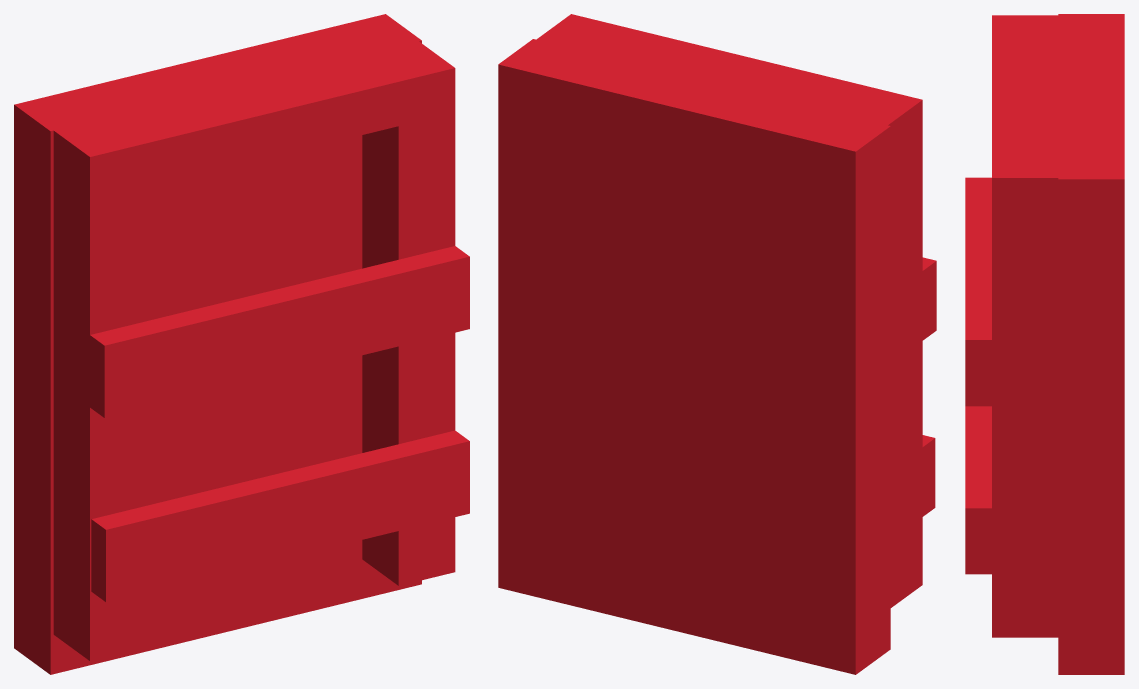
The model's file is tinker.obj.
3 views of the same model, side by side, from view 1: azimuth 30°, elevation 25°; view 2: azimuth 150°, elevation 25°; view 3: azimuth 270°, elevation 25° (orthographic). The views are drawn at different scales.
Parts seen in each view (by area): view 1: obj_0; view 2: obj_0; view 3: obj_0.
Part boxes in pixels (x1,y1,x2,y2): obj_0: (14,14,469,674); obj_0: (498,14,936,674); obj_0: (965,14,1124,674).
Bounding box in the file's own units: 118 × 165 × 48.
